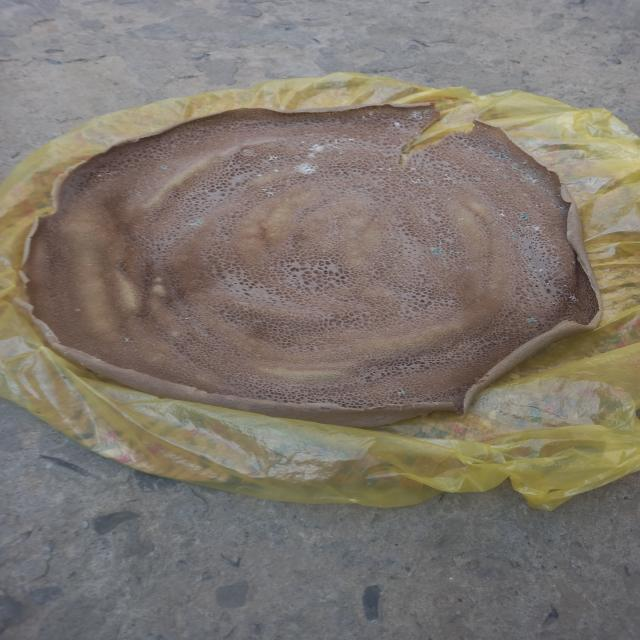injera_mold: (299, 137, 356, 158), (294, 160, 320, 176), (408, 107, 434, 121), (518, 172, 546, 185), (91, 166, 119, 178), (256, 187, 280, 198), (408, 175, 434, 184), (362, 109, 381, 119), (445, 174, 459, 184), (526, 226, 542, 233), (566, 294, 580, 302), (189, 219, 204, 226), (493, 153, 508, 160), (554, 204, 567, 212), (429, 248, 442, 255), (525, 317, 537, 323), (520, 214, 530, 220), (542, 192, 552, 198), (397, 390, 406, 396), (268, 156, 276, 162), (160, 164, 168, 170), (500, 174, 509, 179), (466, 265, 474, 270), (394, 121, 401, 126), (75, 308, 82, 312), (509, 233, 516, 237), (257, 173, 262, 178), (124, 338, 130, 342), (274, 168, 280, 172), (498, 213, 506, 216), (511, 163, 516, 167), (492, 223, 496, 227), (449, 252, 456, 254)
